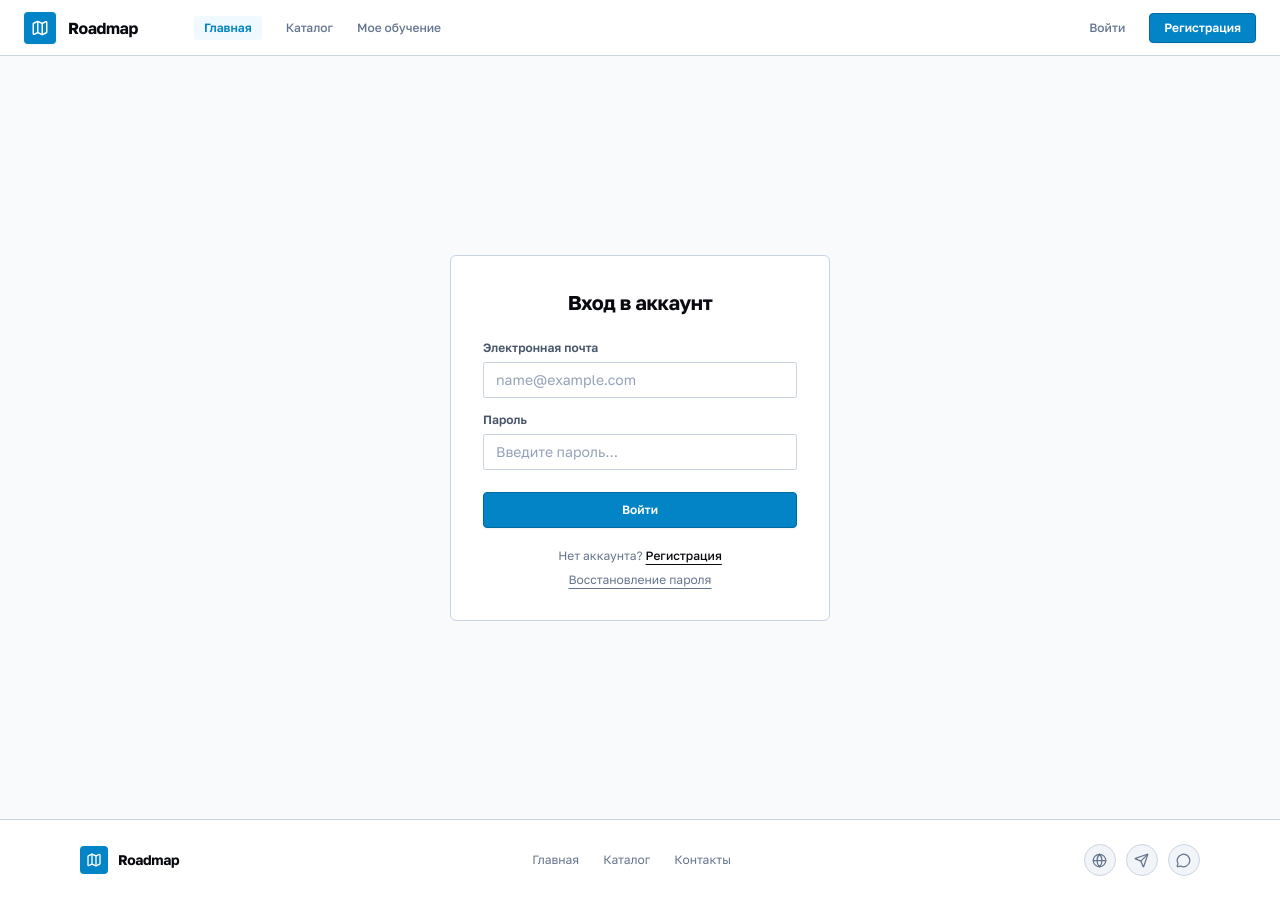
LoginPage › opens recovery modal when clicking password recovery link
Click the button "Восстановление пароля": (640, 580) [568,572,711,588]
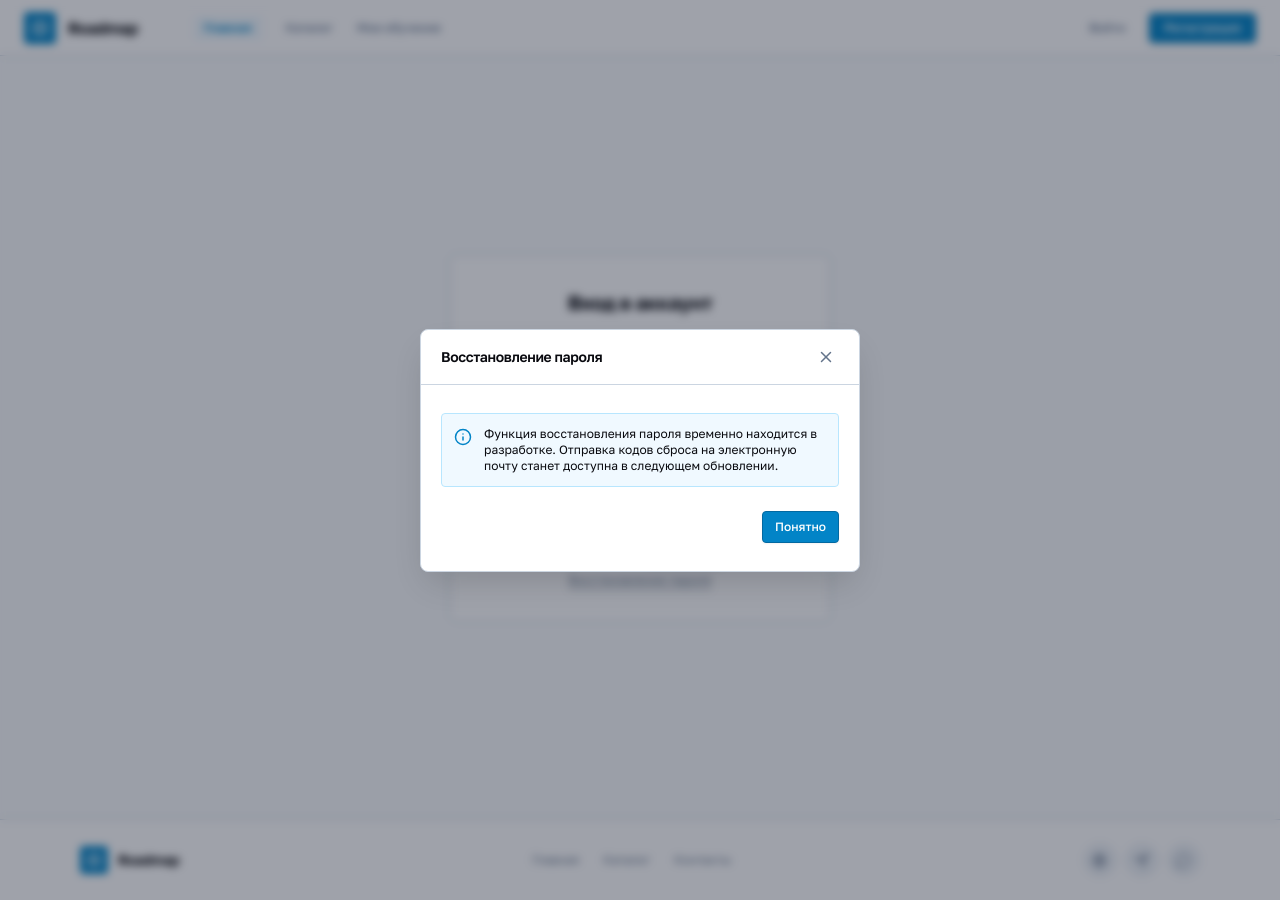
Expected: the text "Функция восстановления пароля временно находится в разработке" is shown, [484,426,817,472]
